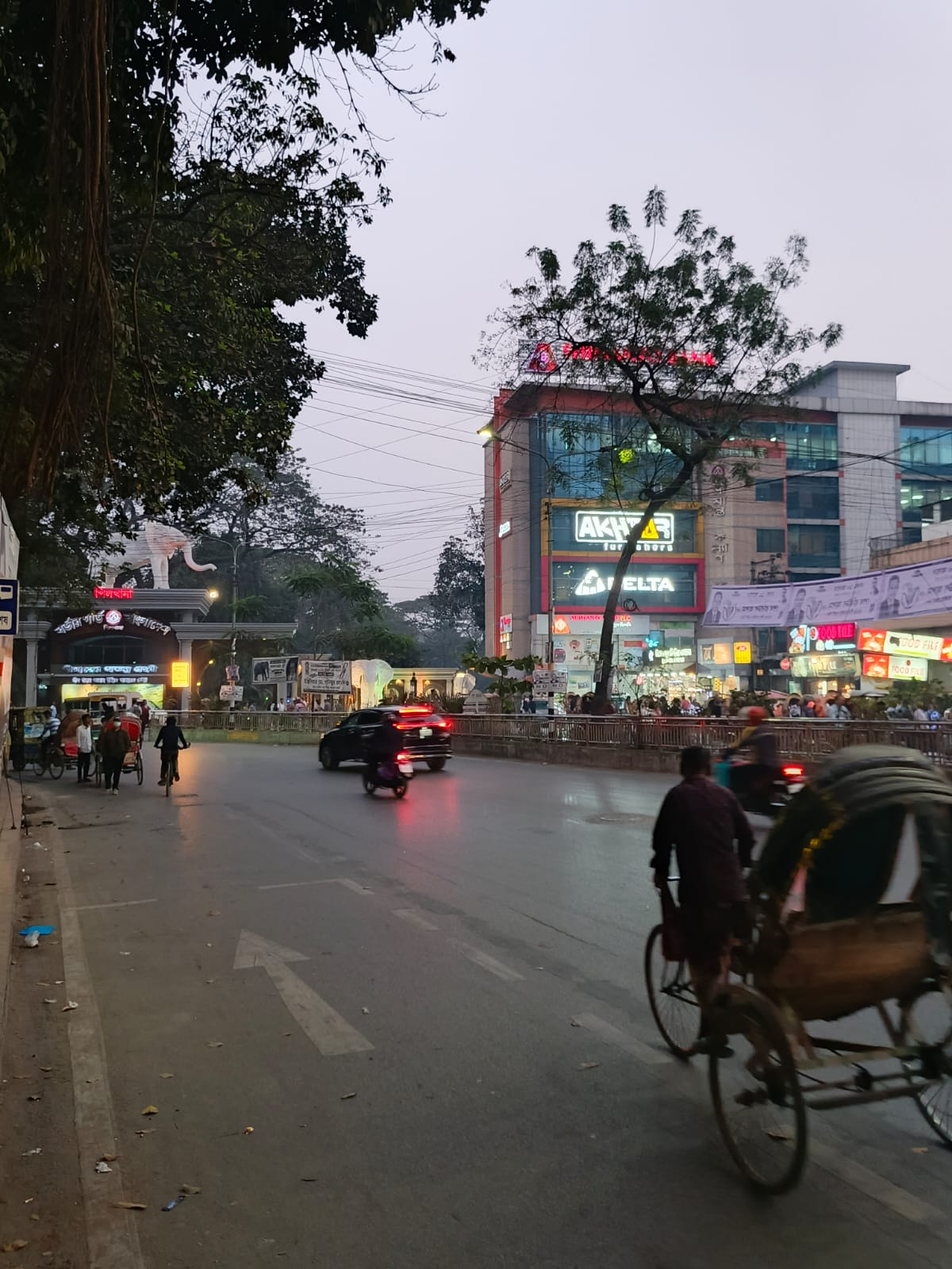Bikes: (730, 683, 819, 815), (360, 717, 419, 809), (159, 725, 195, 790)
auto-ricksaw: (635, 741, 952, 1175), (85, 706, 157, 805)
private car: (301, 680, 465, 767)
